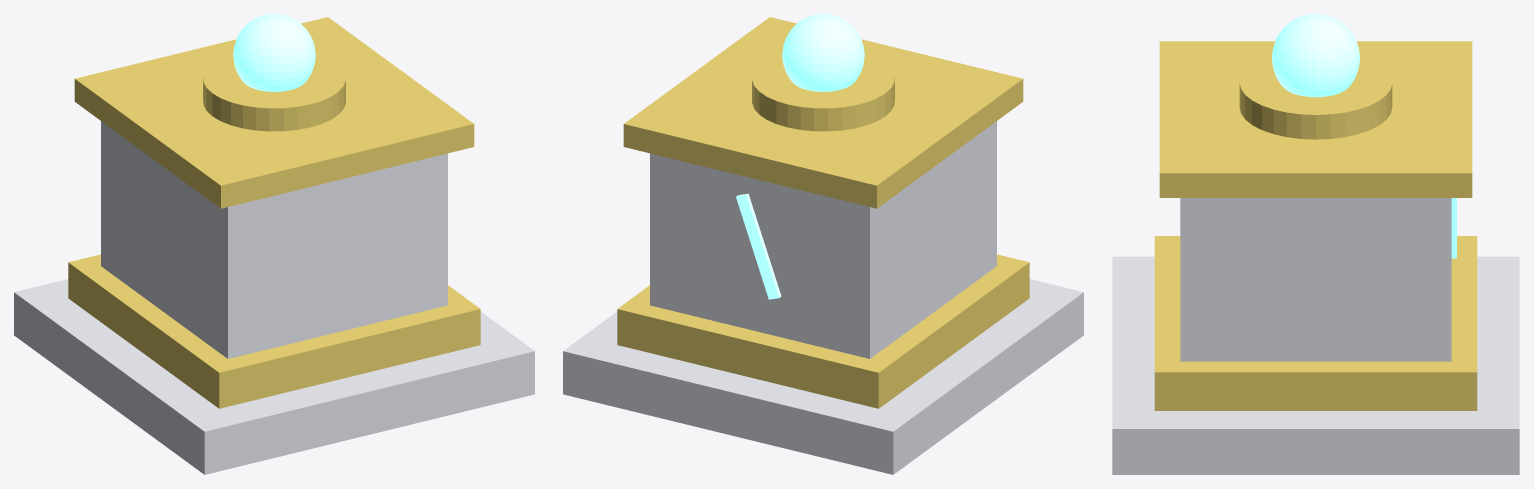
File: altar_zeus.glb
3 renders of one model, left to right at view 1: azimuth 30°, elevation 25°; view 2: azimuth 150°, elevation 25°; view 3: azimuth 270°, elevation 25°, orthographic. The views are drawn at different scales.
Parts seen in each view (by area): view 1: Cube.004; view 2: Cube.004; view 3: Cube.004.
Part boxes in pixels (x1,y1,x2,y2): Cube.004: [14, 14, 534, 474]; Cube.004: [563, 14, 1083, 474]; Cube.004: [1112, 14, 1519, 474].
Bounding box in the file's own units: 2.4 × 2.41 × 2.4.
